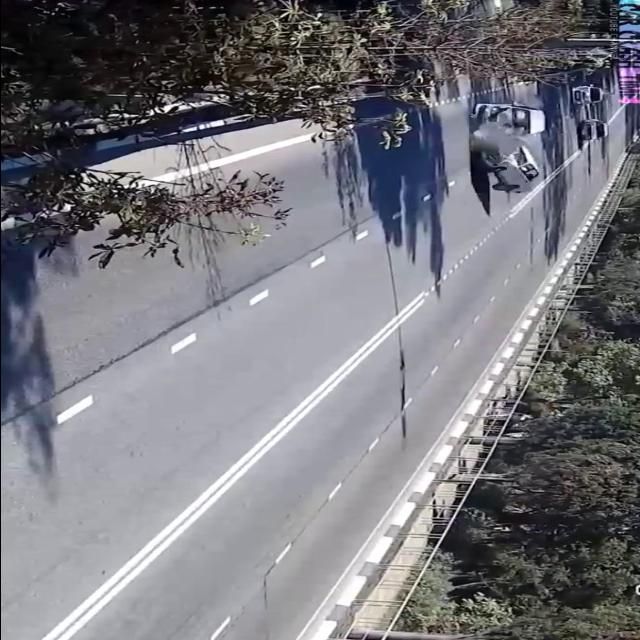accident: (462, 99, 556, 197)
